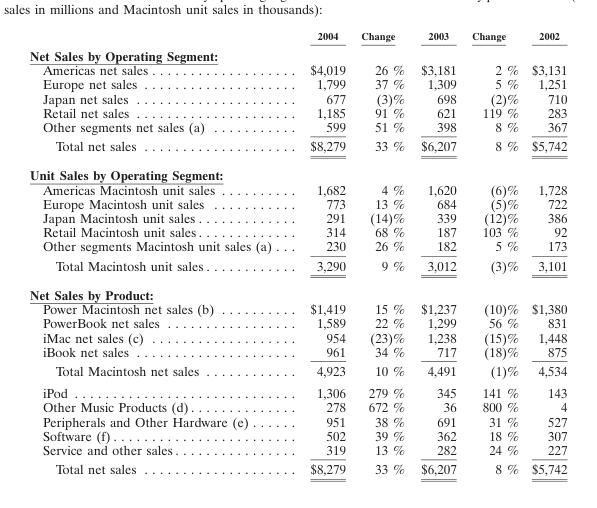table: (28, 29, 566, 476)
table column: (28, 29, 290, 476), (290, 29, 352, 476), (463, 29, 524, 476), (352, 29, 412, 476), (412, 29, 463, 476), (524, 29, 566, 476)
table column header: (28, 29, 566, 44)
table projected row header: (28, 279, 566, 301), (28, 160, 566, 181), (28, 44, 566, 62)
table row: (28, 136, 566, 160), (28, 255, 566, 279), (28, 279, 566, 301), (28, 160, 566, 181), (28, 360, 566, 381), (28, 44, 566, 62), (28, 381, 566, 399), (28, 119, 566, 136), (28, 238, 566, 255), (28, 442, 566, 459), (28, 459, 566, 476), (28, 344, 566, 360), (28, 29, 566, 44), (28, 90, 566, 105), (28, 181, 566, 196), (28, 329, 566, 344), (28, 413, 566, 428), (28, 62, 566, 76), (28, 76, 566, 90), (28, 105, 566, 119), (28, 196, 566, 210), (28, 210, 566, 224), (28, 224, 566, 238), (28, 301, 566, 315), (28, 315, 566, 329), (28, 399, 566, 413), (28, 428, 566, 442)
